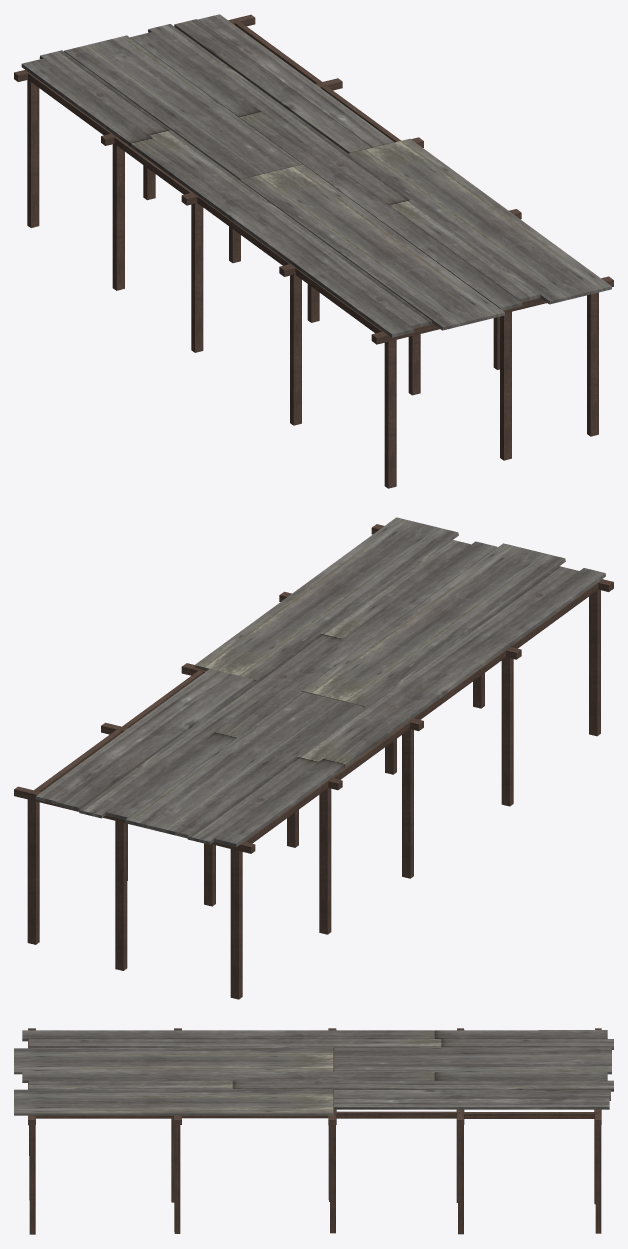
File: jov_Pier2b.fbx
3 renders of one model, top to bottom at view 1: azimuth 30°, elevation 25°; view 2: azimuth 150°, elevation 25°; view 3: azimuth 270°, elevation 25°, orthographic. The views are drawn at different scales.
Parts seen in each view (by area): view 1: jov_Pier2b; view 2: jov_Pier2b; view 3: jov_Pier2b.
Part boxes in pixels (x1,y1,x2,y2): jov_Pier2b: (14, 14, 613, 488); jov_Pier2b: (14, 517, 613, 999); jov_Pier2b: (14, 1028, 613, 1234).
Bounding box in the file's own units: 405 × 262 × 1122.
